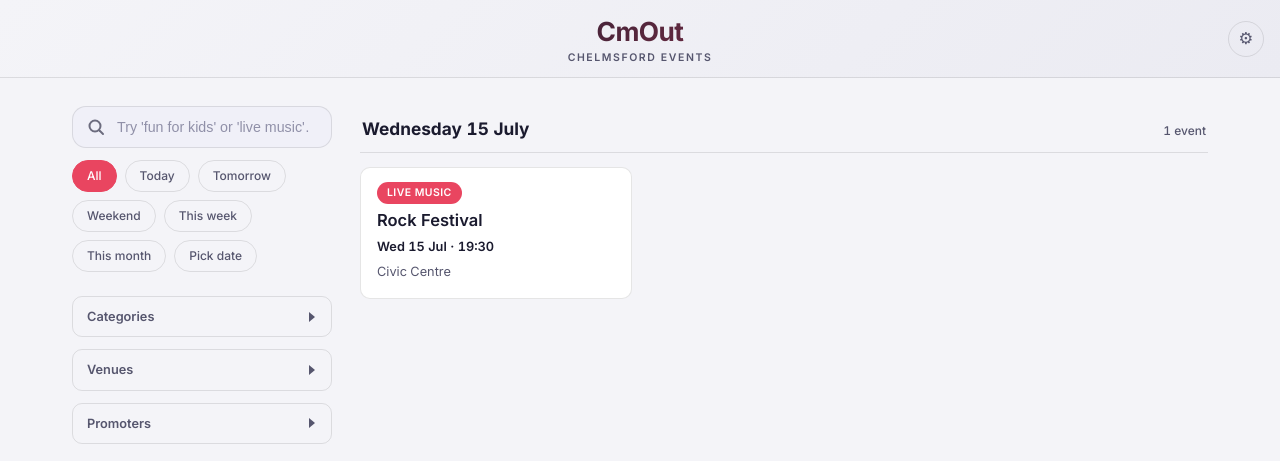
Test: App › shows event detail when an event is selected
Expected: the heading "Rock Festival" is shown, top-left (377, 210), bottom-right (482, 230)
Click the button with aria-label "view details for rock festival": (496, 233) top-left (360, 167), bottom-right (632, 298)
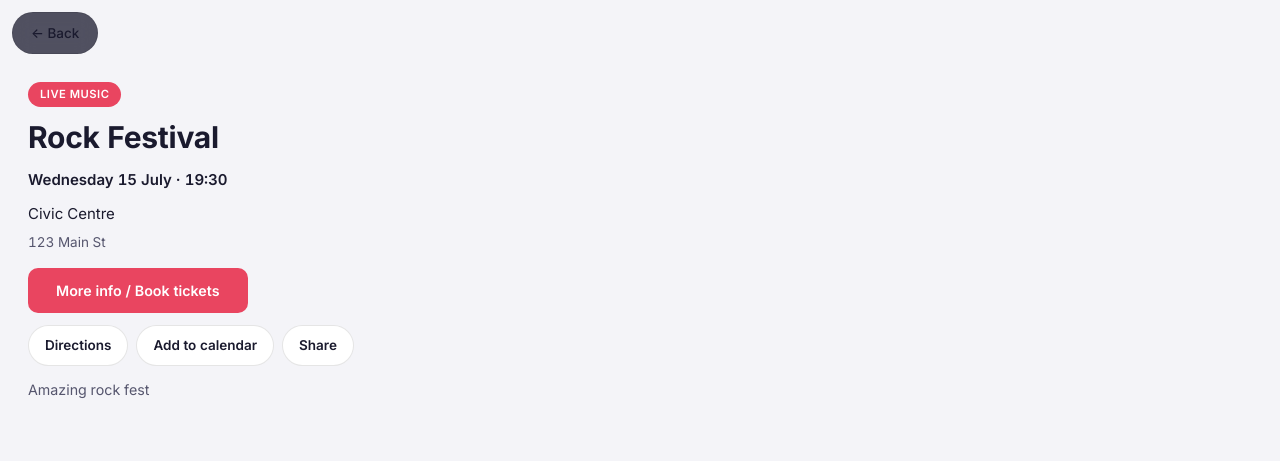
Expected: the link "More info / Book tickets" is shown, top-left (28, 268), bottom-right (248, 313)
